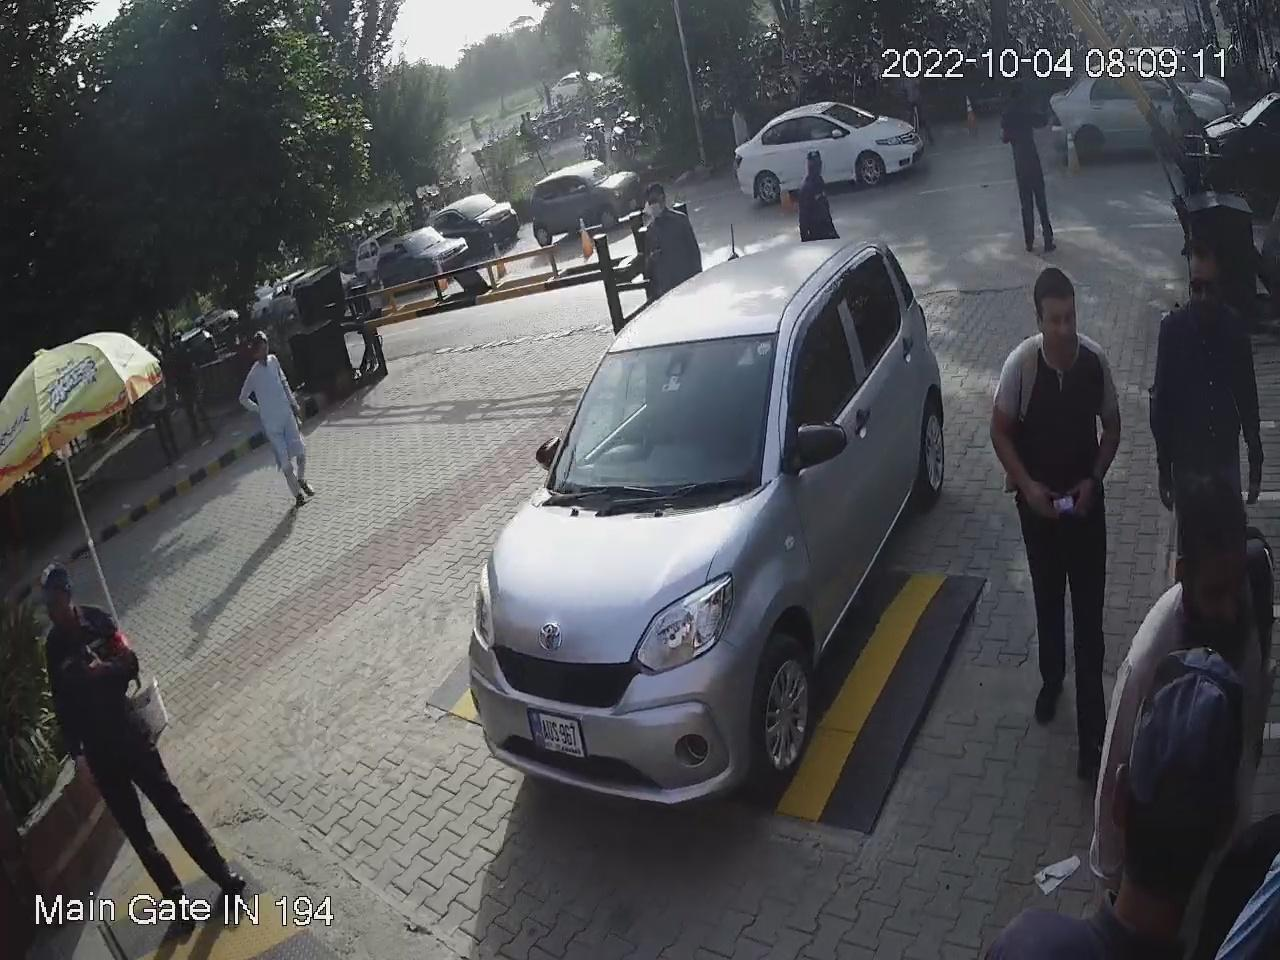windshield: (543, 325, 781, 520)
